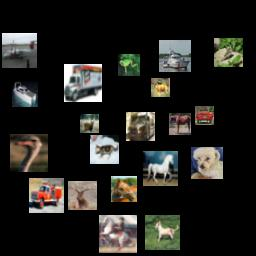airplane: (2, 33, 37, 68)
automobile: (195, 106, 214, 125)
bird: (10, 134, 48, 172), (214, 38, 243, 67)
cat: (90, 135, 119, 164)
deer: (68, 181, 97, 210), (80, 114, 99, 133), (151, 78, 170, 97)
dog: (145, 215, 180, 250), (191, 147, 223, 179)
frog: (118, 54, 140, 76)
ship: (159, 40, 191, 72), (12, 81, 38, 107)
truck: (64, 64, 102, 102), (29, 178, 64, 213), (126, 112, 155, 141)
